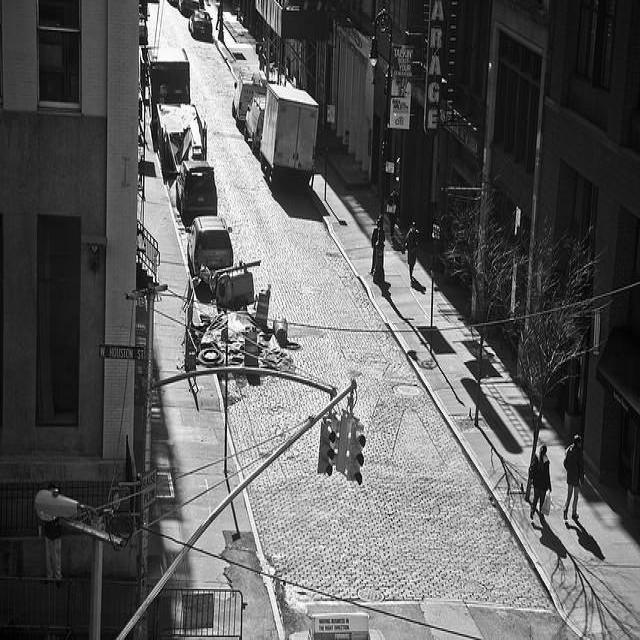vehicle: (260, 86, 320, 189), (146, 42, 190, 146), (184, 215, 233, 278), (175, 161, 218, 227), (244, 95, 266, 157), (188, 8, 213, 40), (178, 0, 200, 17)
